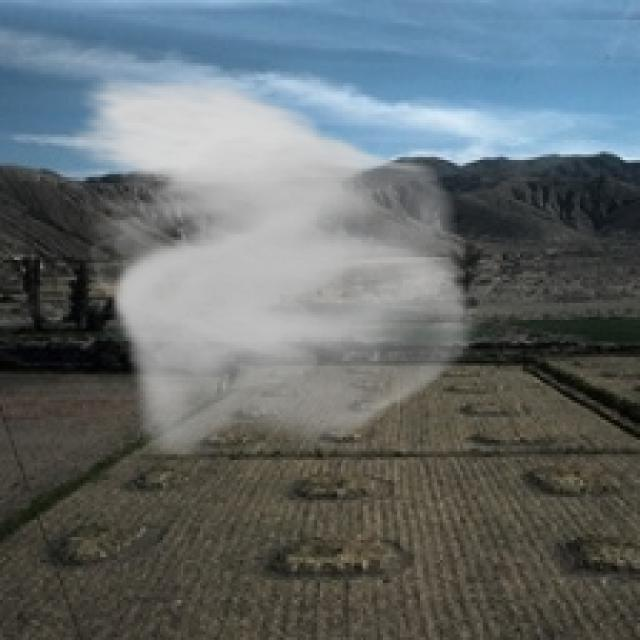smoke: (63, 72, 488, 457)
